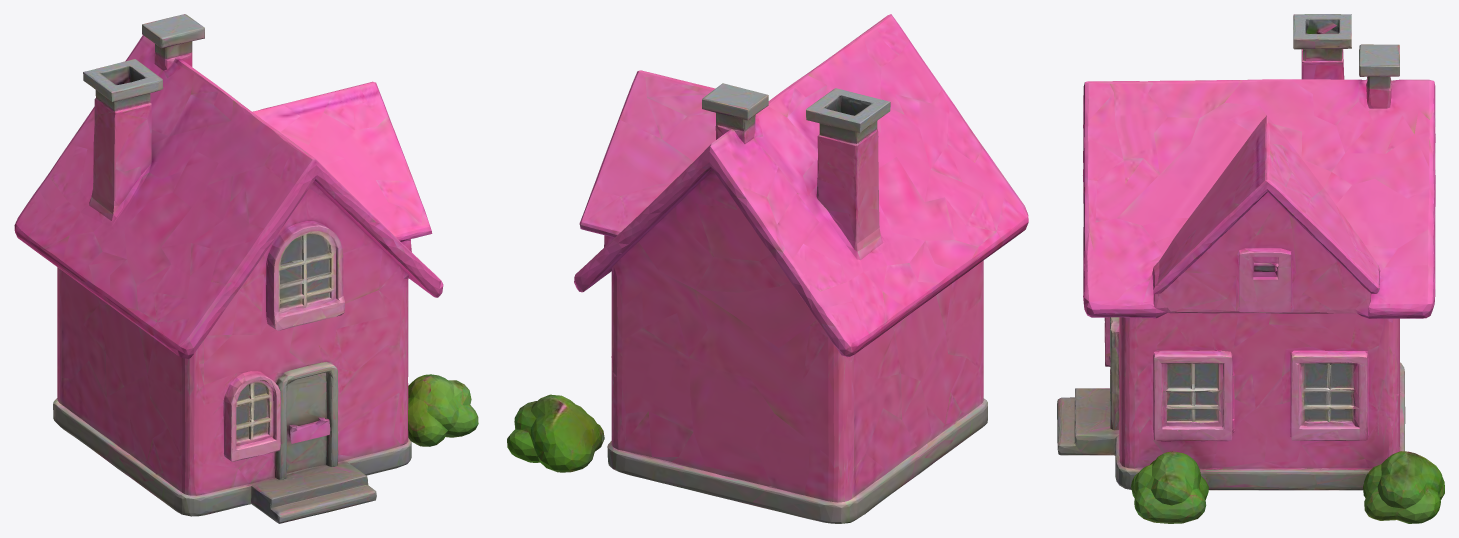
Rendered from house_e.glb.
3 renders of one model, left to right at view 1: azimuth 30°, elevation 25°; view 2: azimuth 150°, elevation 25°; view 3: azimuth 270°, elevation 25°, orthographic. The views are drawn at different scales.
Visible parts, largest first — view 1: temp_Material.001_0; view 2: temp_Material.001_0; view 3: temp_Material.001_0.
Boxes of the visible parts, <box> form: temp_Material.001_0: <box>14,14,478,523</box>; temp_Material.001_0: <box>507,14,1028,523</box>; temp_Material.001_0: <box>1057,14,1444,523</box>.
Size of the model in its own units: 1.87 by 2 by 1.86.
1 material, 1 textured.
